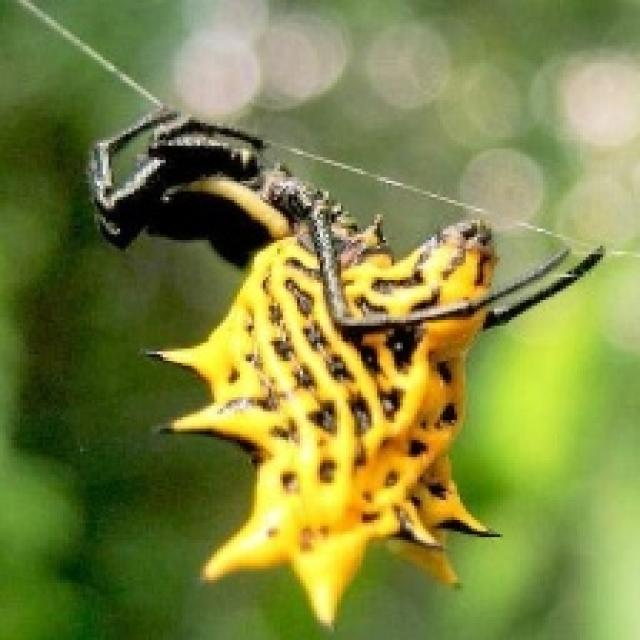Non venomous spider: (63, 159, 597, 627)
